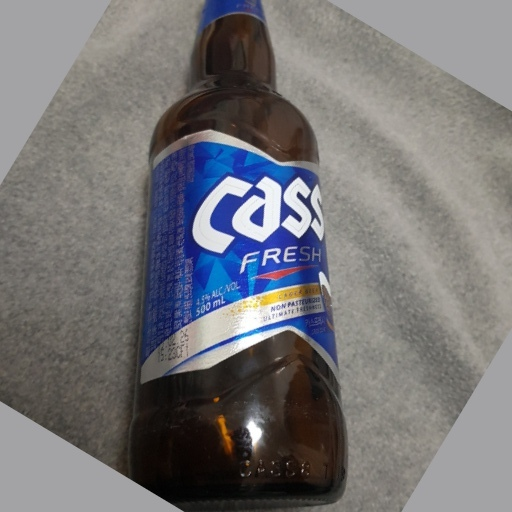Glass_1: (125, 1, 354, 509)
